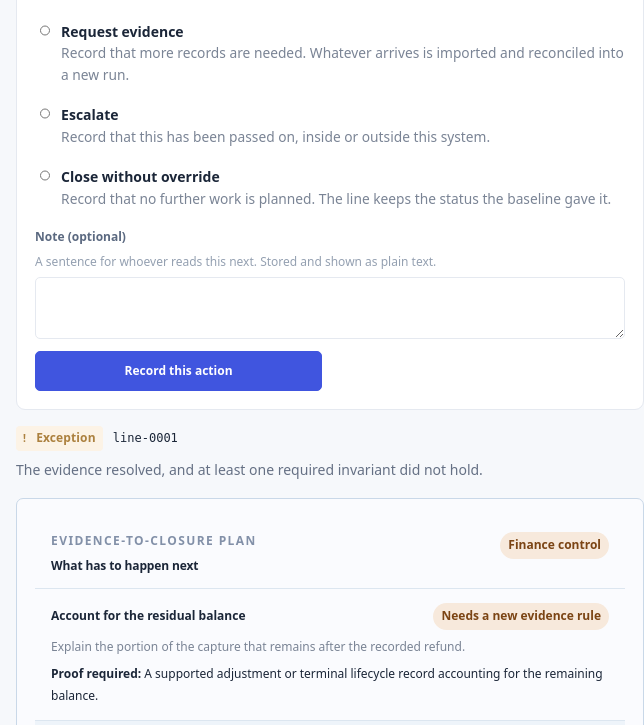
it: recording an action › confirms what was recorded and repeats the unchanged status
(page scrolled)
Click the button "Record this action". click: coordinates (179, 371)
box: [35,350,322,391]
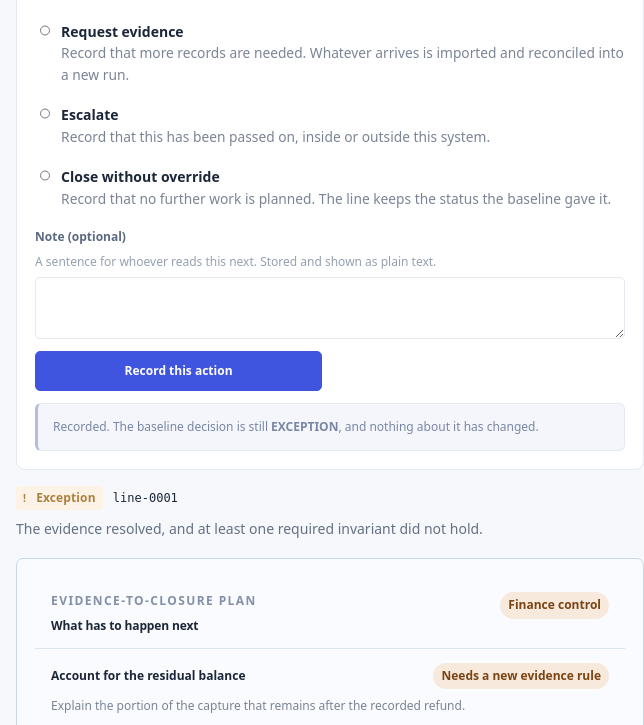
Now the message shows "The baseline decision is still", box [53,418,271,435]
Now the message shows "EXCEPTION", box [271,418,338,435]
